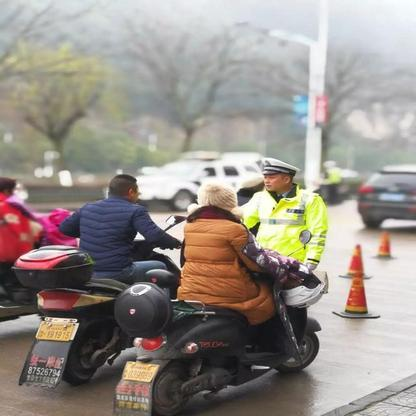target: (114, 178, 321, 411), (11, 173, 184, 387)
